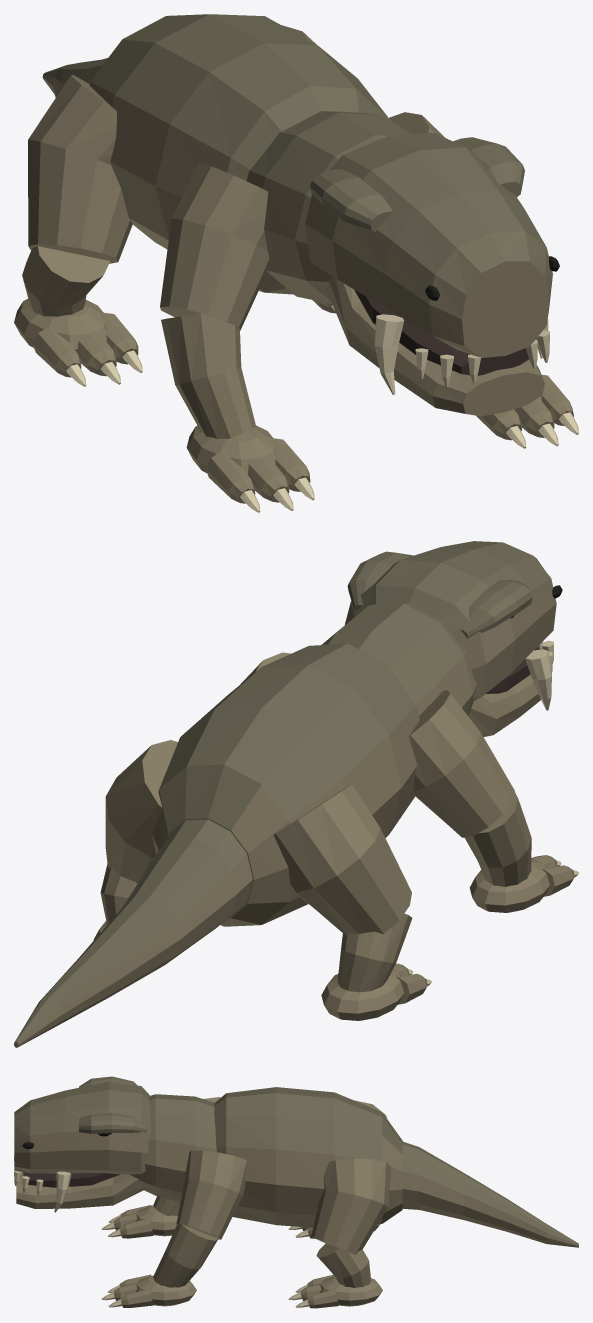
3 renders of one model, top to bottom at view 1: azimuth 30°, elevation 25°; view 2: azimuth 150°, elevation 25°; view 3: azimuth 270°, elevation 25°, orthographic. The views are drawn at different scales.
Visible parts, largest first — view 1: deep-wedge-skull, barrel-trunk, left-hind-upper, left-fore-upper, powerful-neck, left-fore-lower, substantial-lower-jaw, left-hind-lower, left-brow, recessed-mouth-cavity, left-hind-broad-foot, left-fore-broad-foot (+13 smaller); view 2: barrel-trunk, thick-tapering-tail, deep-wedge-skull, left-hind-upper, left-fore-upper, powerful-neck, right-hind-upper, left-fore-lower, left-hind-lower, left-hind-broad-foot, left-fore-broad-foot, substantial-lower-jaw (+5 smaller); view 3: barrel-trunk, deep-wedge-skull, thick-tapering-tail, right-hind-upper, powerful-neck, right-fore-upper, substantial-lower-jaw, right-fore-lower, right-hind-lower, right-brow, right-hind-broad-foot, right-fore-broad-foot (+8 smaller).
Part boxes in pixels (bbox=[...]): deep-wedge-skull: bbox=[305, 133, 552, 357]; barrel-trunk: bbox=[89, 14, 389, 294]; left-hind-upper: bbox=[28, 75, 132, 263]; left-fore-upper: bbox=[160, 162, 269, 330]; powerful-neck: bbox=[247, 111, 410, 303]; left-fore-lower: bbox=[161, 313, 255, 439]; substantial-lower-jaw: bbox=[326, 278, 544, 416]; left-hind-lower: bbox=[22, 246, 110, 316]; left-brow: bbox=[309, 169, 392, 231]; recessed-mouth-cavity: bbox=[354, 289, 528, 375]; left-hind-broad-foot: bbox=[14, 299, 106, 350]; left-fore-broad-foot: bbox=[186, 425, 275, 474]; barrel-trunk: bbox=[152, 643, 419, 926]; thick-tapering-tail: bbox=[14, 819, 252, 1047]; deep-wedge-skull: bbox=[345, 541, 556, 700]; left-hind-upper: bbox=[273, 784, 411, 934]; left-fore-upper: bbox=[409, 690, 514, 837]; powerful-neck: bbox=[322, 603, 476, 715]; right-hind-upper: bbox=[105, 740, 177, 883]; left-fore-lower: bbox=[464, 792, 531, 886]; left-hind-lower: bbox=[337, 913, 412, 992]; left-hind-broad-foot: bbox=[321, 969, 403, 1020]; left-fore-broad-foot: bbox=[469, 858, 549, 912]; substantial-lower-jaw: bbox=[468, 674, 540, 736]; barrel-trunk: bbox=[214, 1087, 402, 1227]; deep-wedge-skull: bbox=[14, 1082, 150, 1174]; thick-tapering-tail: bbox=[402, 1141, 578, 1247]; right-hind-upper: bbox=[311, 1158, 390, 1254]; powerful-neck: bbox=[130, 1094, 216, 1201]; right-fore-upper: bbox=[176, 1150, 247, 1239]; substantial-lower-jaw: bbox=[16, 1172, 146, 1208]; right-fore-lower: bbox=[153, 1224, 217, 1287]; right-hind-lower: bbox=[316, 1243, 371, 1287]; right-brow: bbox=[79, 1113, 146, 1133]; right-hind-broad-foot: bbox=[320, 1276, 382, 1306]; right-fore-broad-foot: bbox=[136, 1275, 196, 1306].
Size of the model in its own units: 2.48 by 2.23 by 6.41.
